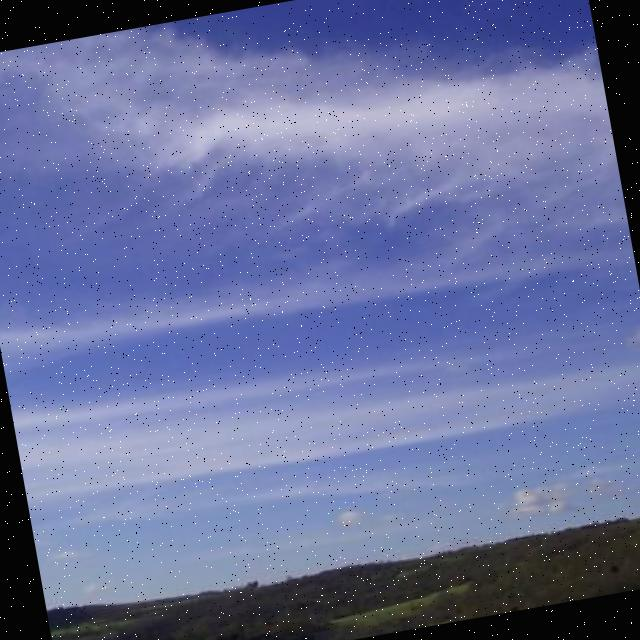Ci: (1, 1, 631, 499)
